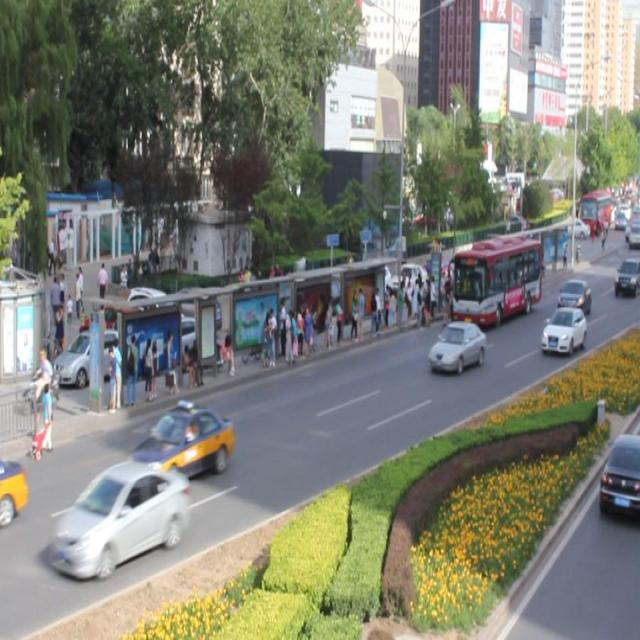car: (51, 460, 191, 572), (129, 404, 232, 481), (427, 318, 486, 373), (540, 304, 584, 354), (1, 453, 28, 521), (555, 277, 591, 316)
van: (447, 232, 538, 326)
